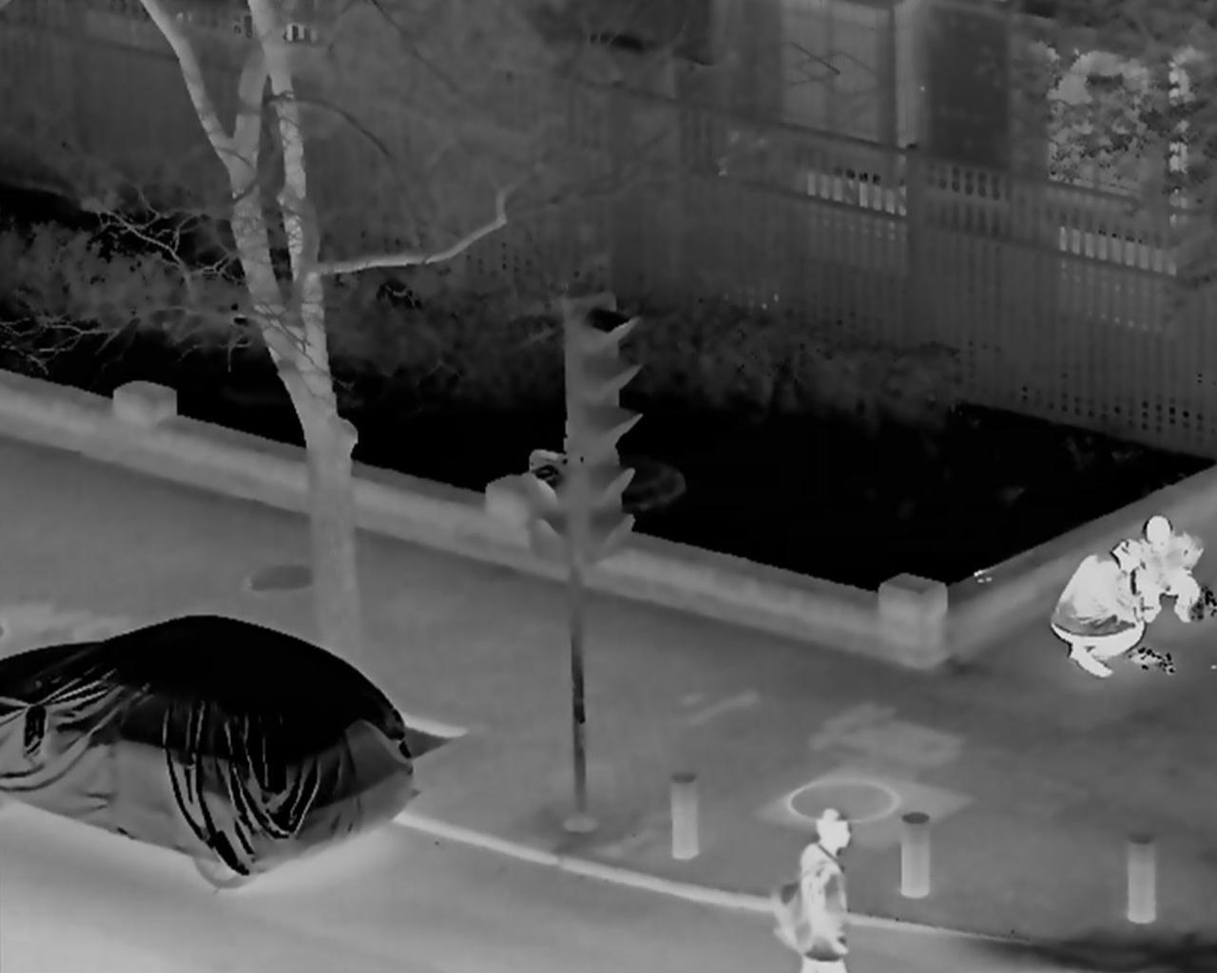person: (1050, 541, 1144, 677), (781, 809, 855, 973), (1138, 514, 1200, 625)
